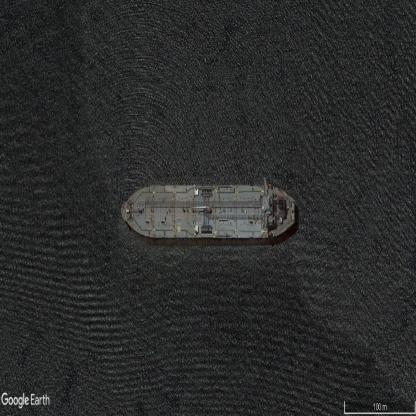ship: (122, 184, 295, 238)
